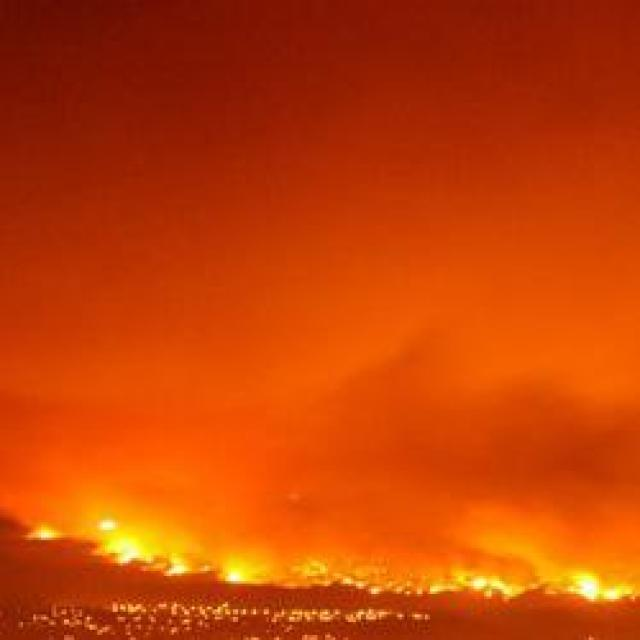Fire: (0, 484, 640, 612)
Smoke: (0, 0, 640, 495)
